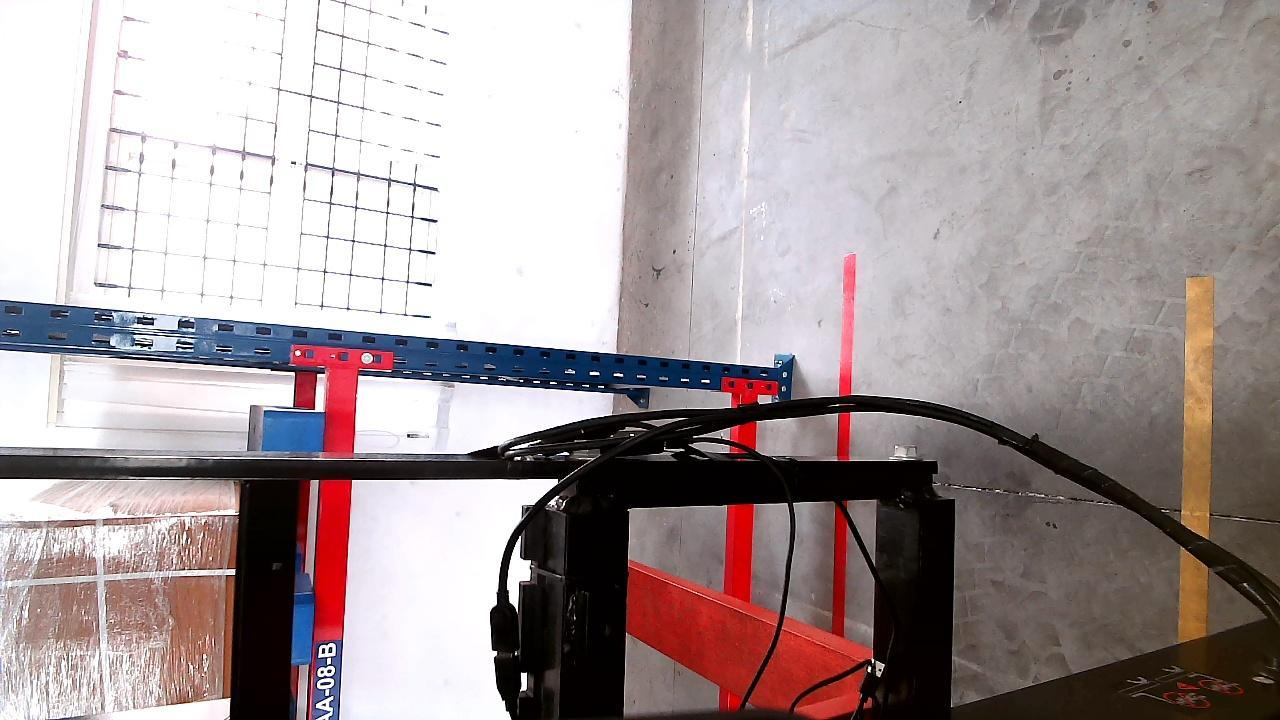red_line: (829, 251, 859, 634)
yellow_line: (1180, 270, 1214, 636)
